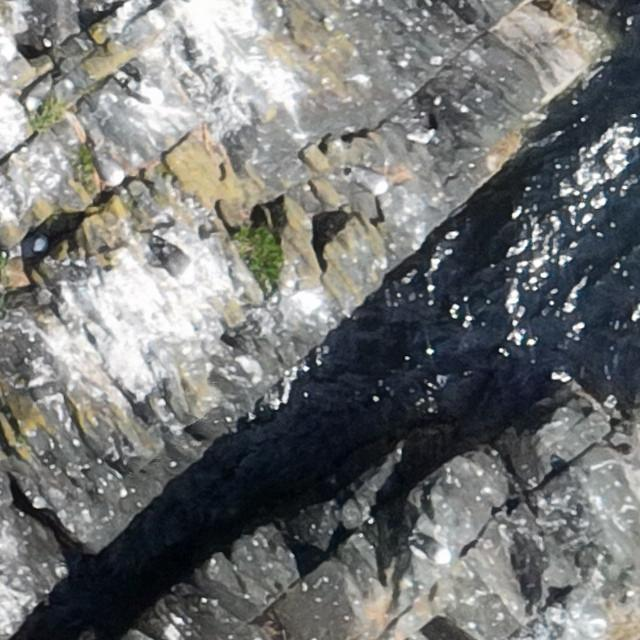umineko: (161, 244, 196, 289), (414, 540, 446, 561), (12, 236, 45, 256), (28, 80, 48, 104)
